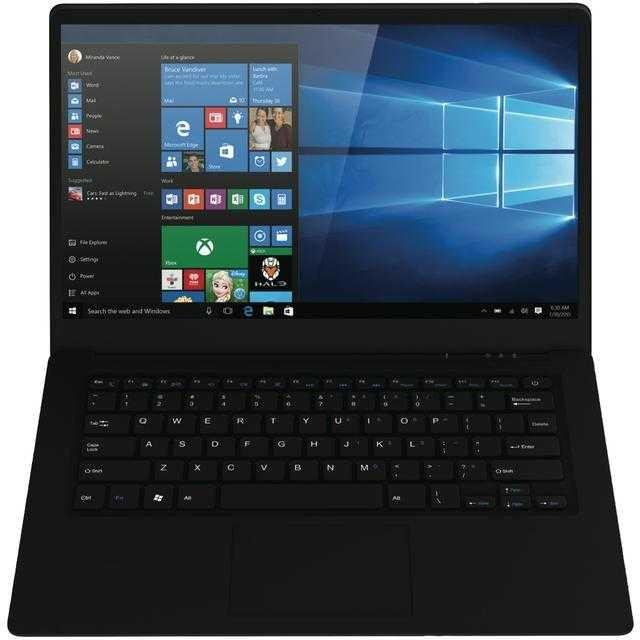laptop: (41, 13, 632, 634)
